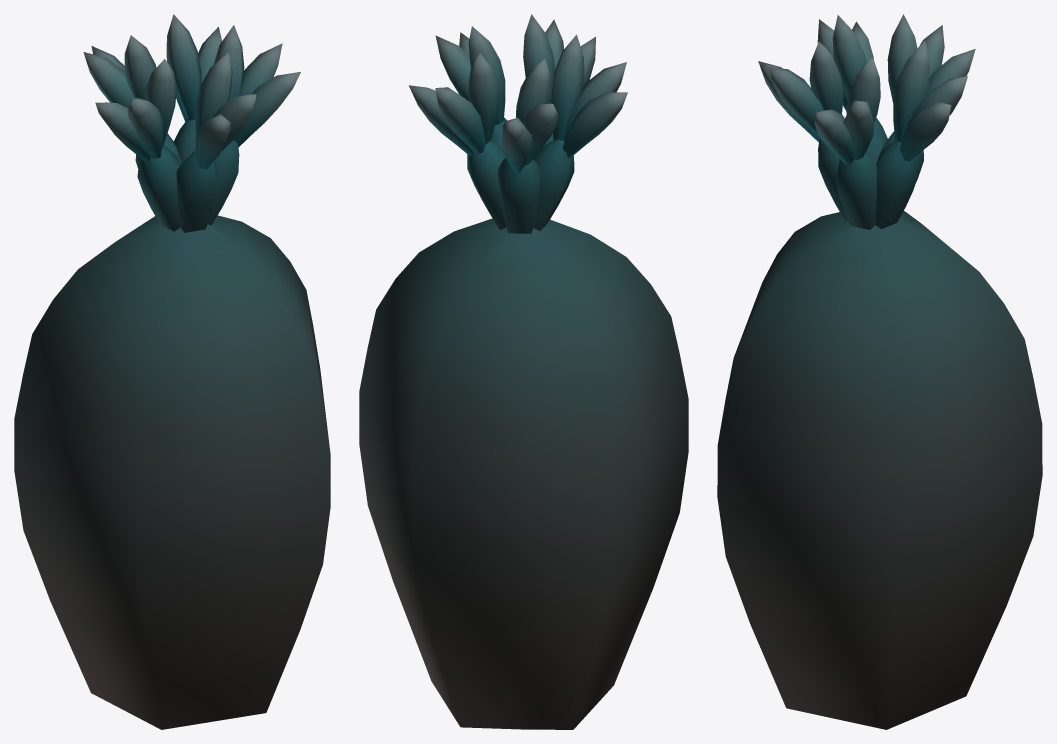
File: plants-leafy-plants-leafy-bulb_v7.glb
3 renders of one model, left to right at view 1: azimuth 30°, elevation 25°; view 2: azimuth 150°, elevation 25°; view 3: azimuth 270°, elevation 25°, orthographic.
Visible parts, largest first — view 1: Leafy Bulb_v7; view 2: Leafy Bulb_v7; view 3: Leafy Bulb_v7.
Boxes of the visible parts, box(x1,y1,x2,y2) form: Leafy Bulb_v7: box(14, 14, 330, 729); Leafy Bulb_v7: box(359, 14, 688, 729); Leafy Bulb_v7: box(717, 14, 1042, 729).
Bounding box in the file's own units: 0.1707 × 0.4 × 0.1708.
